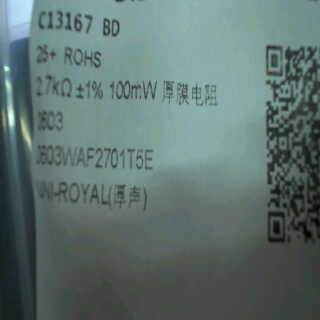2.7kR: (35, 73, 74, 103)
